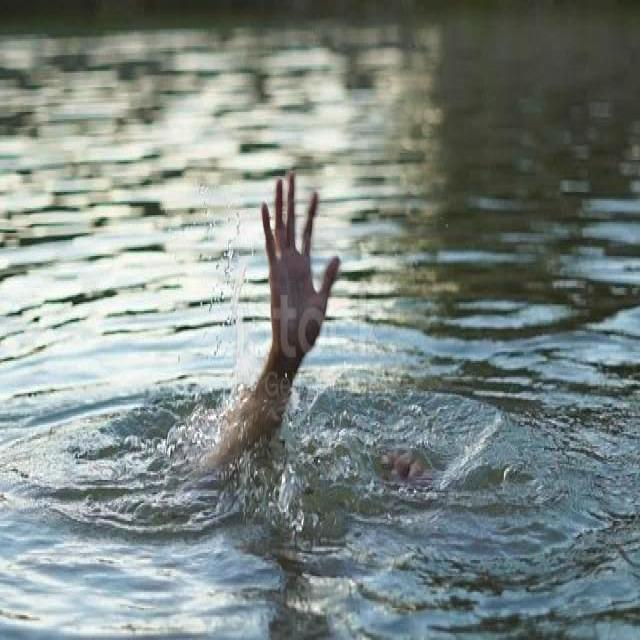Out of Water: (196, 143, 474, 565)
